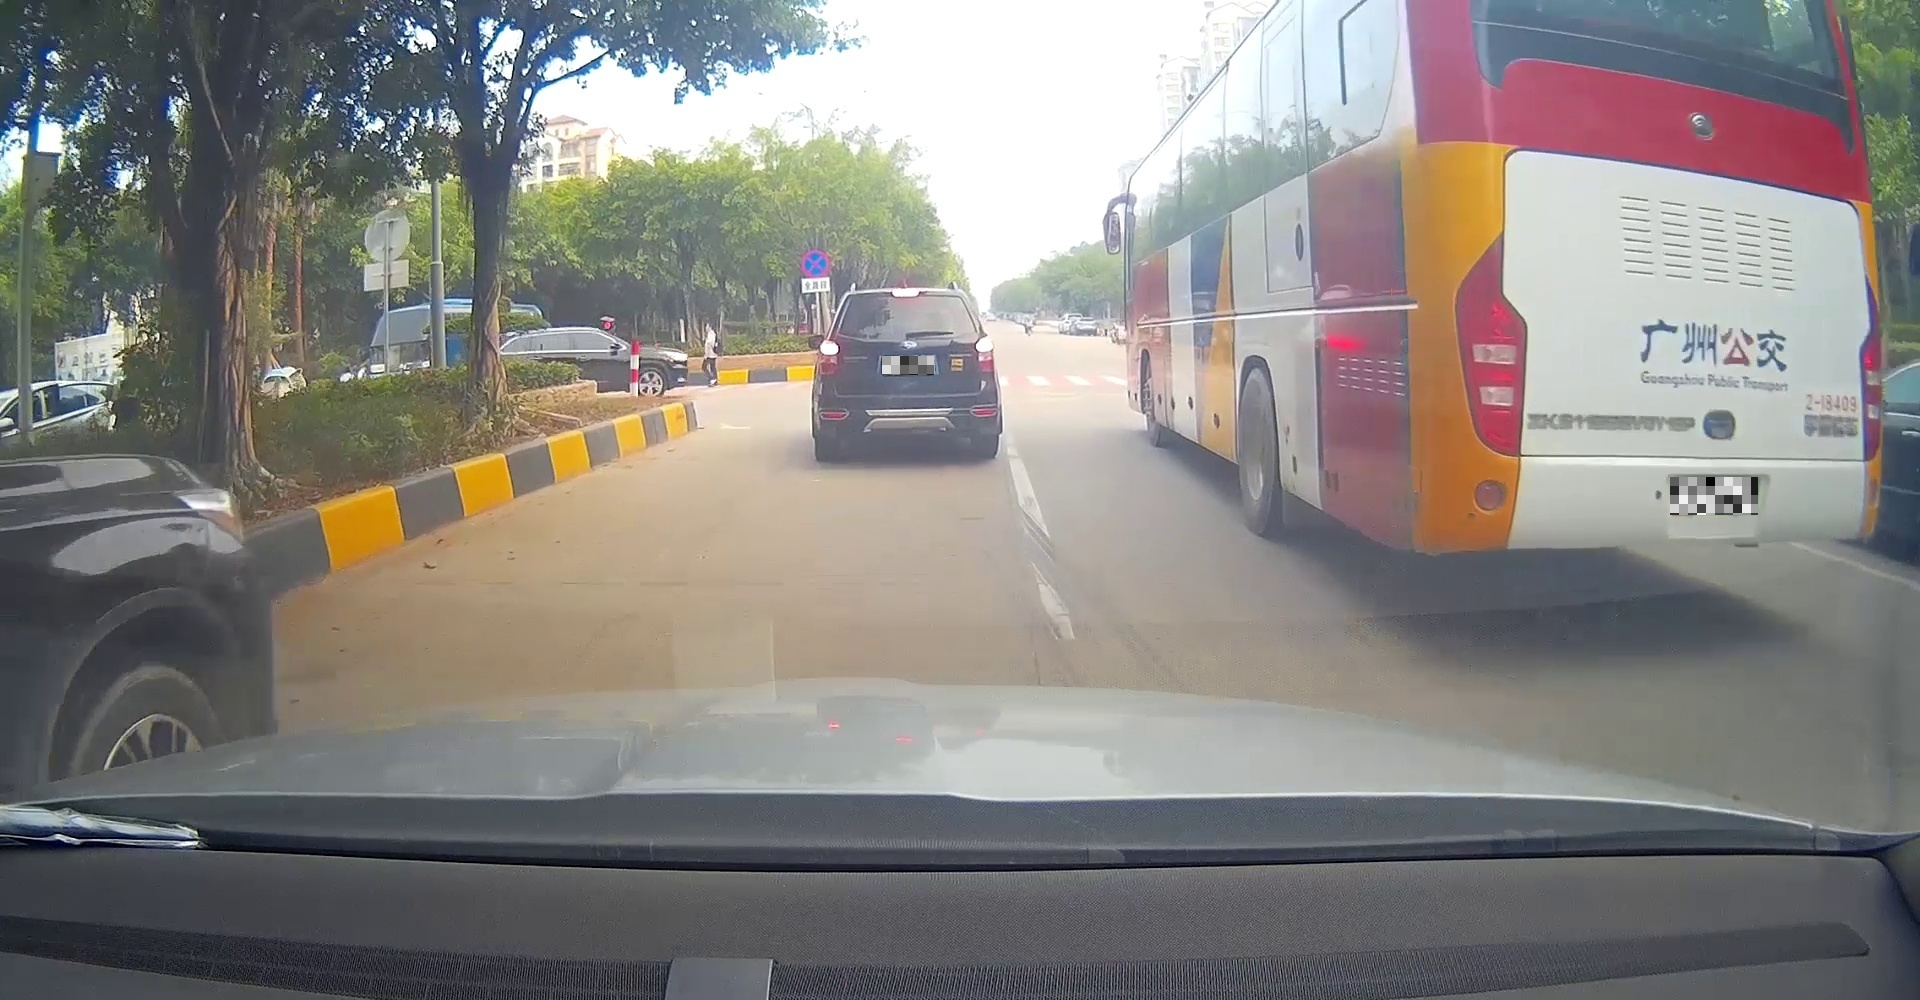L_light: (818, 340, 841, 376)
R_light: (975, 336, 996, 373)
T_light: (891, 288, 921, 298)
day-brake: (814, 282, 1003, 462)
plate_1: (883, 357, 935, 376)
plate_2: (1670, 477, 1757, 515)
